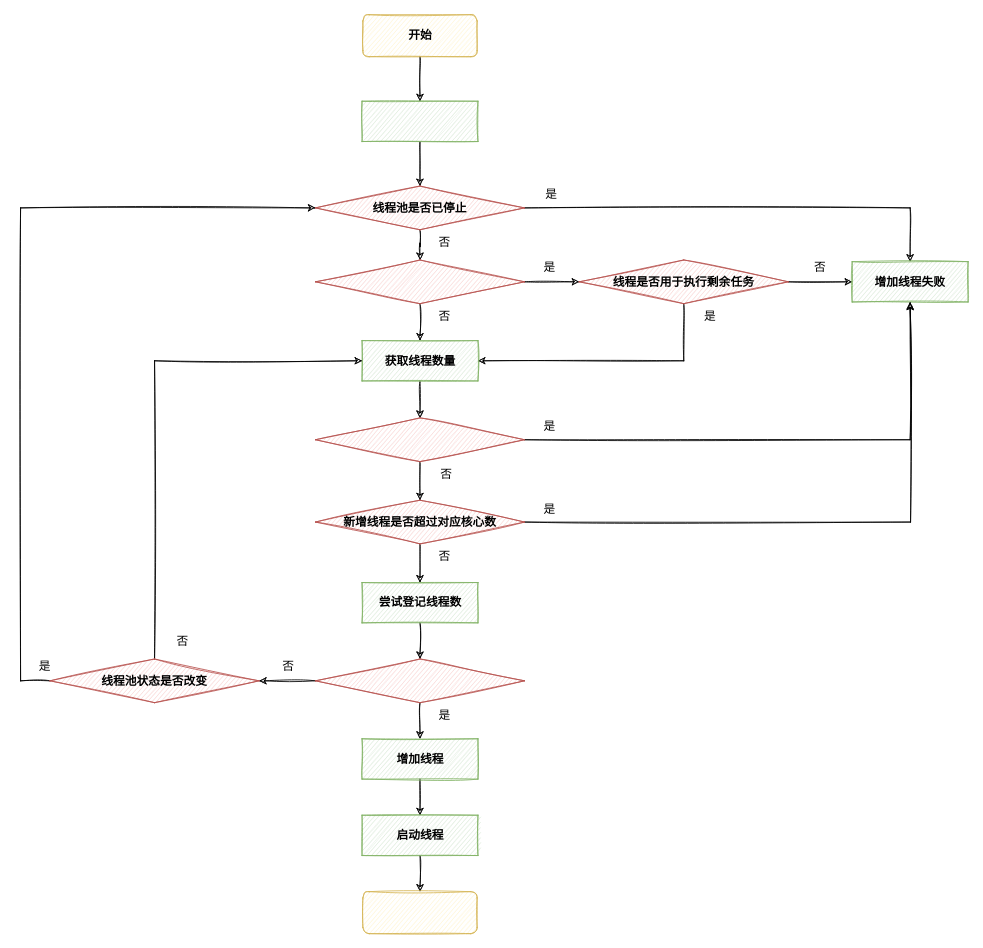
This 983x948 diagram has some shape labels left out. Each missing label, with the centre of its shape:
申请增加线程: (x=419, y=121)
登记线程数是否成功: (x=420, y=680)
线程数是否超过容量: (x=420, y=439)
线程池是否正在停止: (x=420, y=281)
结束: (x=419, y=912)
